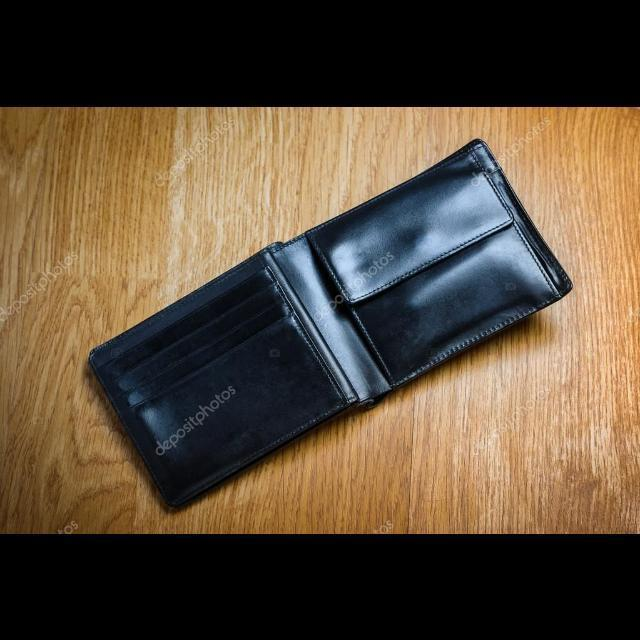wallet: (72, 128, 606, 496)
